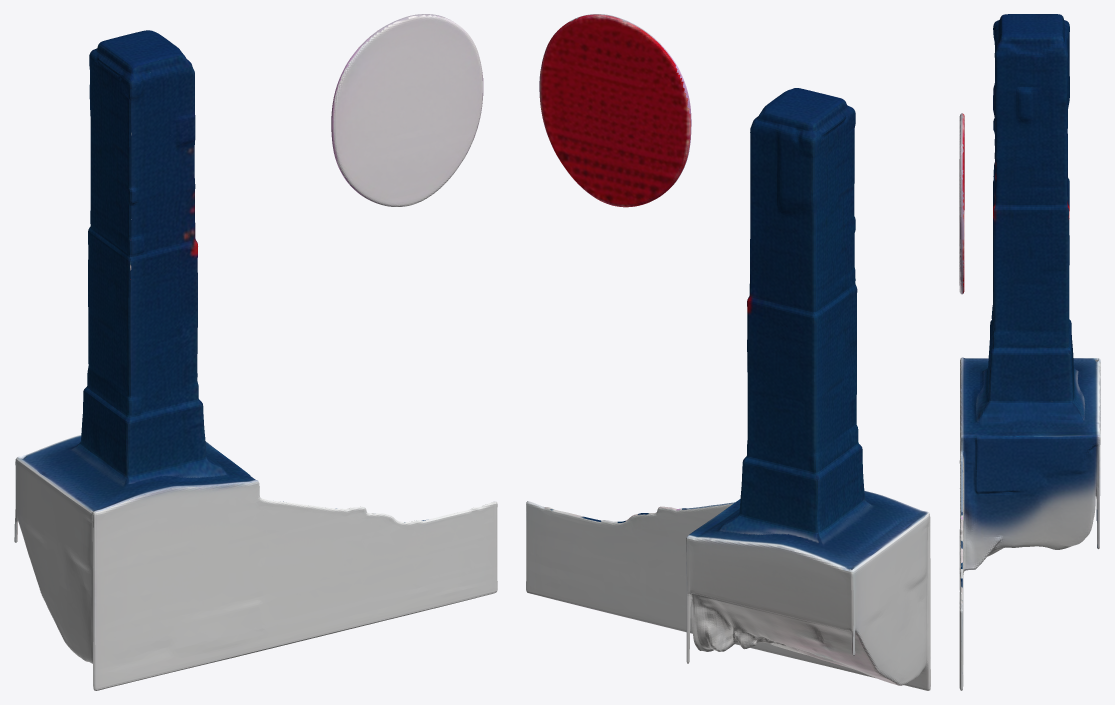
File: weathered-monolith-pillar-generated-2026-04-18t22-01-36-007z-generated-2026-04-19T00-38-32-081Z.glb
The picture shows the model from 3 angles, left to right: view 1: azimuth 30°, elevation 25°; view 2: azimuth 150°, elevation 25°; view 3: azimuth 270°, elevation 25°; orthographic projection. The views are drawn at different scales.
Parts seen in each view (by area): view 1: temp_mesh.ply; view 2: temp_mesh.ply; view 3: temp_mesh.ply.
Part boxes in pixels (box(x1,y1,x2,y2)): temp_mesh.ply: box(14, 14, 497, 690); temp_mesh.ply: box(526, 14, 930, 690); temp_mesh.ply: box(959, 14, 1100, 690).
Size of the model in its own units: 1.4 by 1.97 by 0.4743.
Materials: 1 (1 with a texture image).
